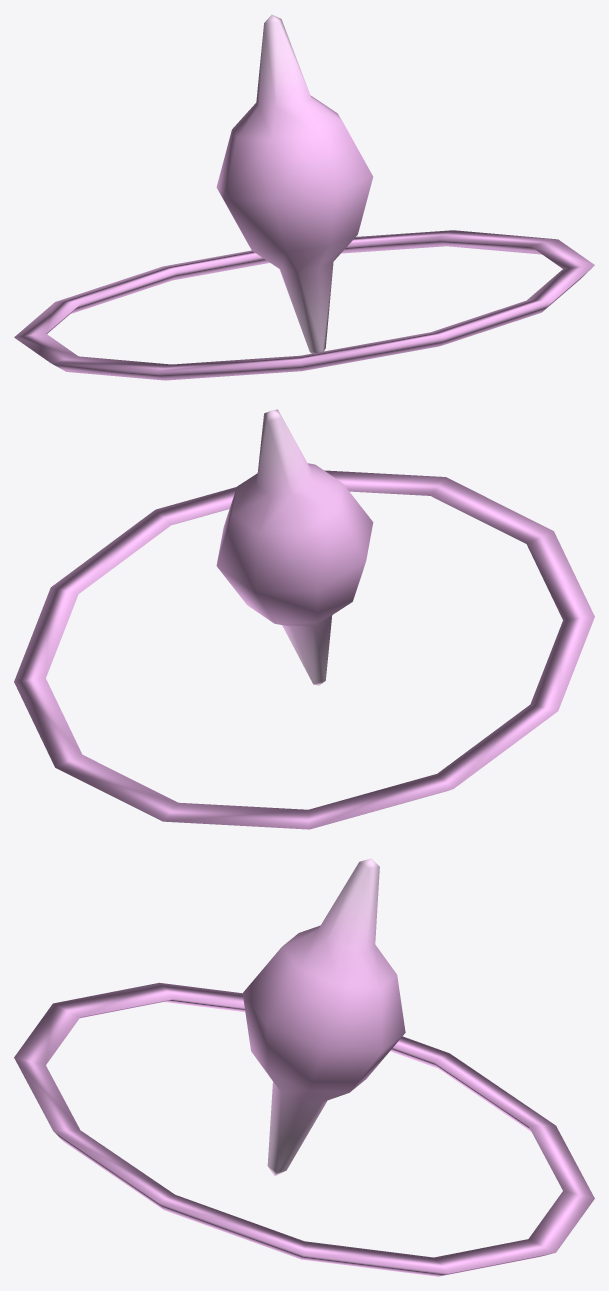
Rendered from CH0069_Halo.fbx.
The picture shows the model from 3 angles, top to bottom: view 1: azimuth 30°, elevation 25°; view 2: azimuth 150°, elevation 25°; view 3: azimuth 270°, elevation 25°; orthographic projection. The views are drawn at different scales.
Parts seen in each view (by area): view 1: CH0069_Halo; view 2: CH0069_Halo; view 3: CH0069_Halo.
Part boxes in pixels (bbox=[...]): CH0069_Halo: bbox=[14, 14, 594, 380]; CH0069_Halo: bbox=[14, 409, 594, 829]; CH0069_Halo: bbox=[14, 858, 594, 1276].
Bounding box in the file's own units: 0.2397 × 0.1529 × 0.2315.
1 material, 1 textured.
